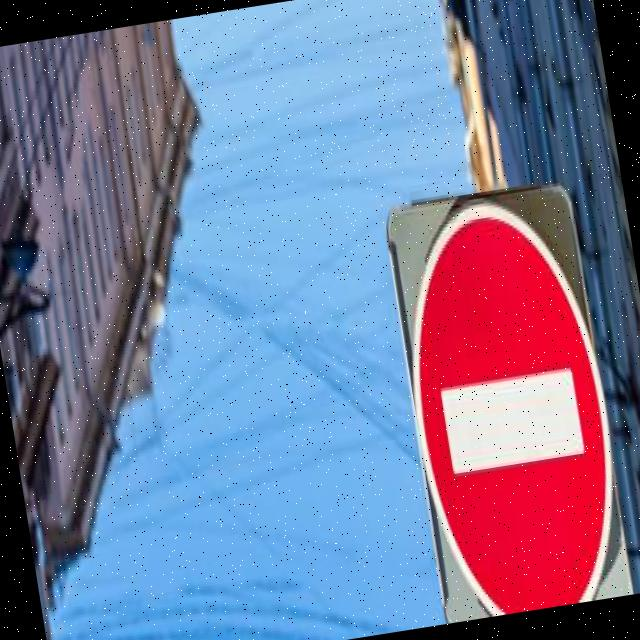do_not_enter: (378, 175, 640, 624)
